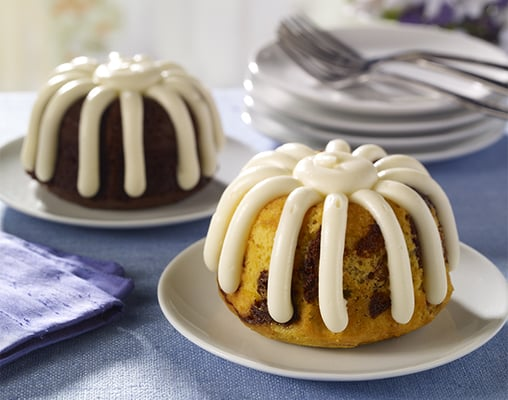burger: (278, 15, 508, 114)
